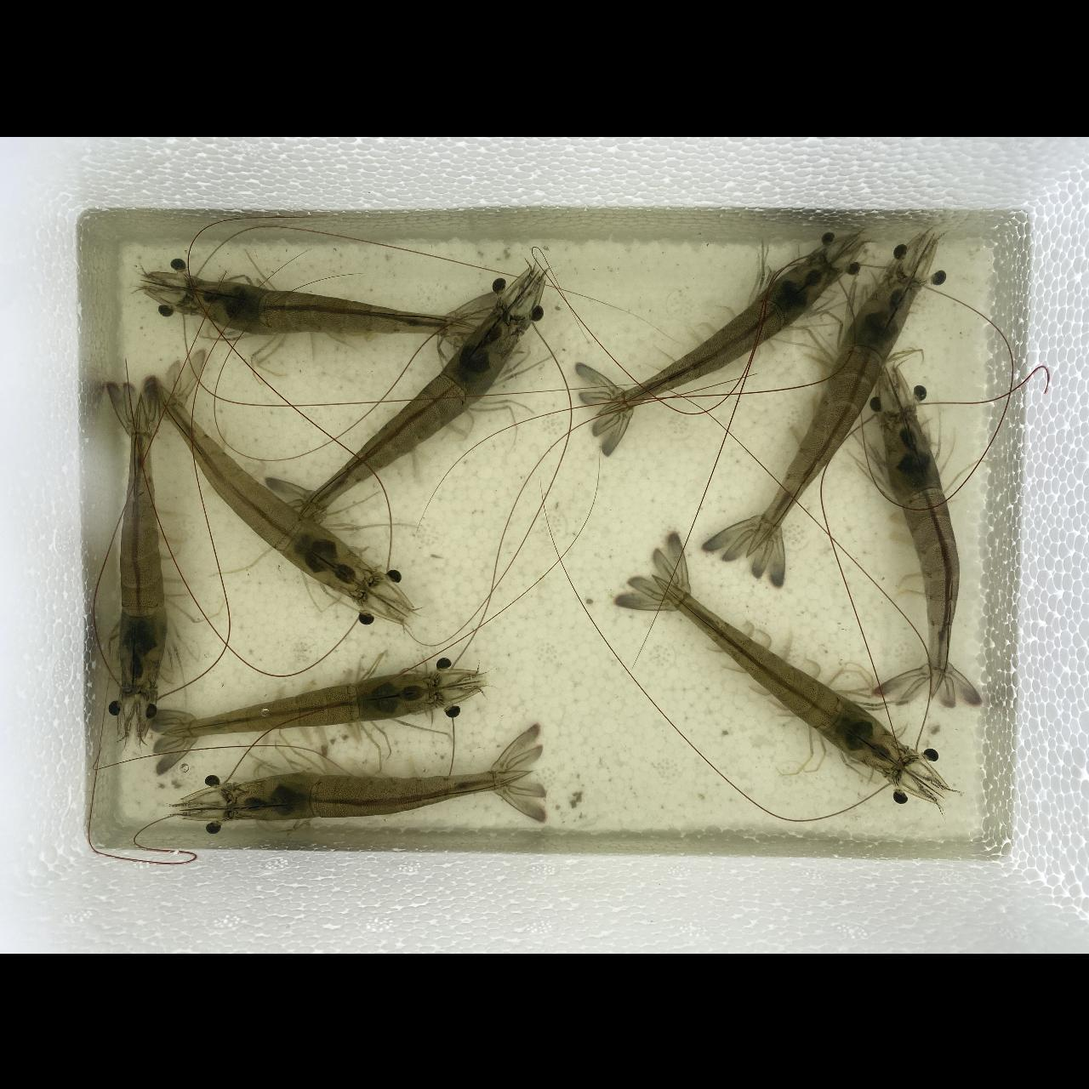top_shrimp: (648, 573, 906, 772), (747, 276, 918, 556), (296, 310, 519, 522), (155, 384, 376, 597), (595, 258, 834, 415), (884, 413, 958, 698), (160, 673, 441, 737), (184, 279, 488, 334), (225, 770, 533, 820), (119, 390, 167, 694)
